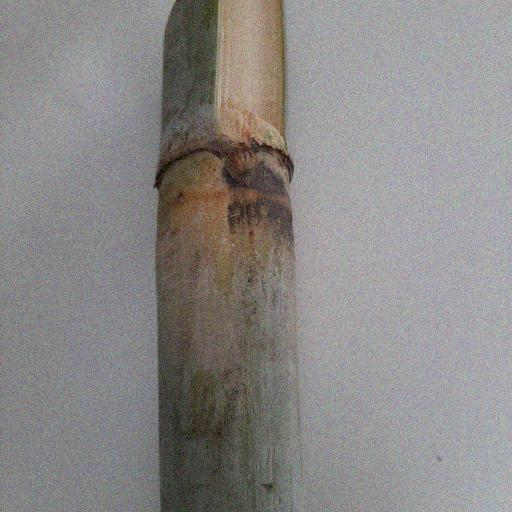Bud: (225, 147, 254, 184)
